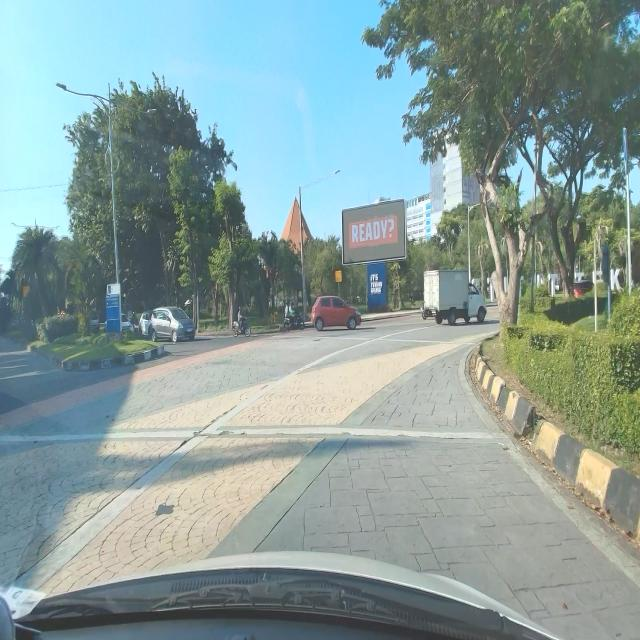truck: (422, 268, 489, 324)
